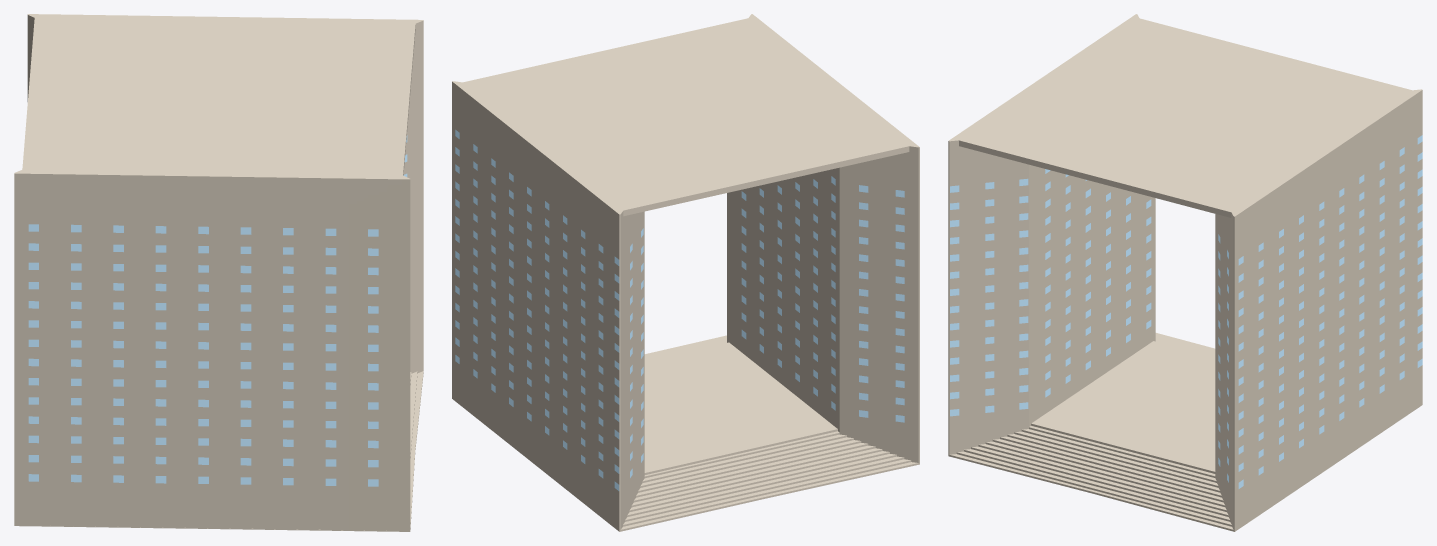
3 views of the same model, side by side, from view 1: azimuth 30°, elevation 25°; view 2: azimuth 150°, elevation 25°; view 3: azimuth 270°, elevation 25° (orthographic). The views are drawn at different scales.
Visible parts, largest first — view 1: stone, window; view 2: stone, window; view 3: stone, window.
Part boxes in pixels (x1,y1,x2,y2): stone: (14,14,423,531); window: (28,135,407,486); stone: (452,14,919,531); window: (455,129,904,490); stone: (948,14,1422,531); window: (950,135,1422,488).
Size of the model in its own units: 152 by 110 by 150.
